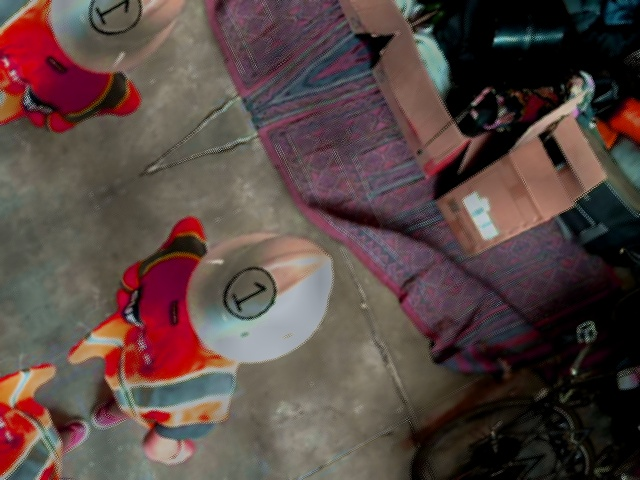one: (215, 259, 283, 327)
